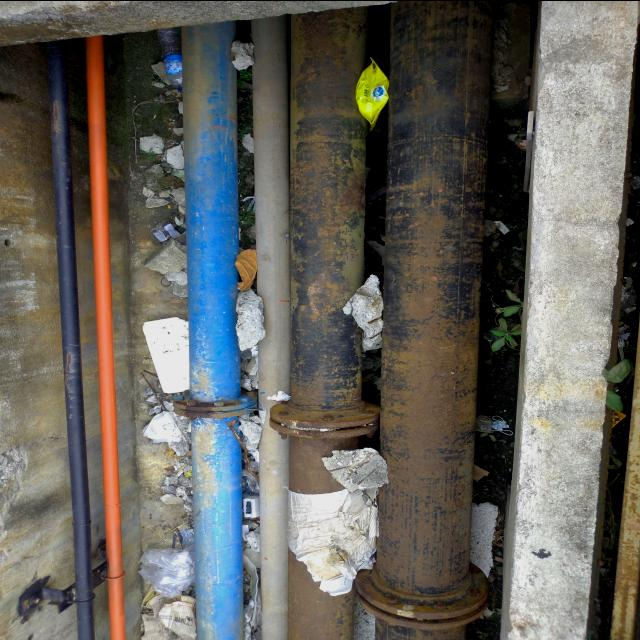gas: (378, 0, 489, 640), (288, 7, 366, 640), (186, 27, 244, 638), (47, 44, 98, 639), (87, 40, 124, 634)
